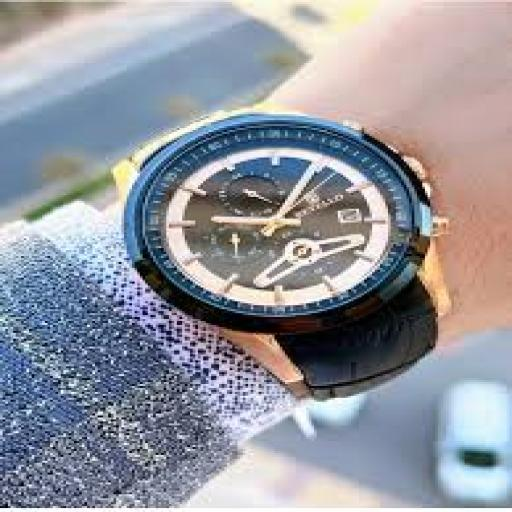KolSaati: (88, 86, 456, 408)
